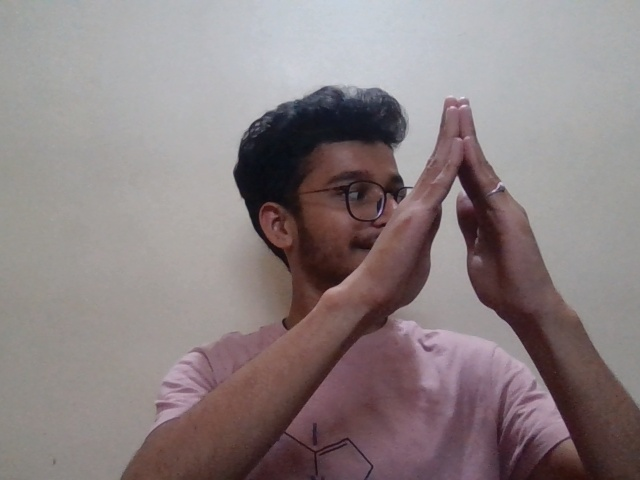home: (360, 88, 567, 329)
